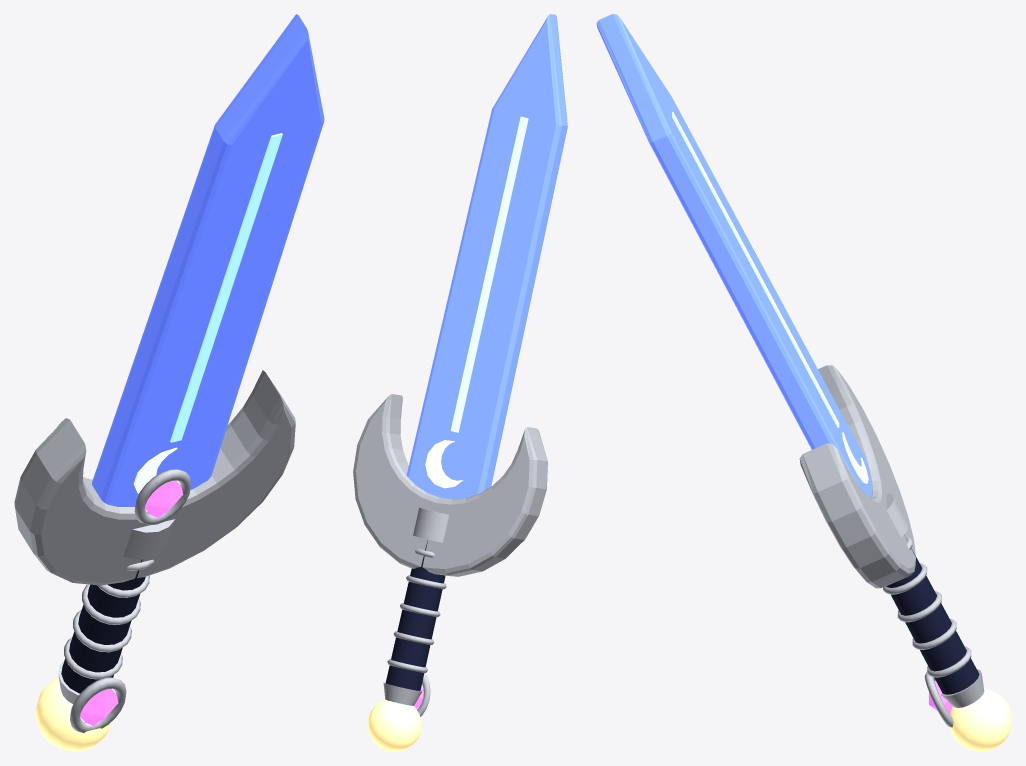
The model's file is hand_eqmoon2.glb.
3 views of the same model, side by side, from view 1: azimuth 30°, elevation 25°; view 2: azimuth 150°, elevation 25°; view 3: azimuth 270°, elevation 25° (orthographic). The views are drawn at different scales.
Bounding box in the file's own units: 1.4 × 4.66 × 2.39.
